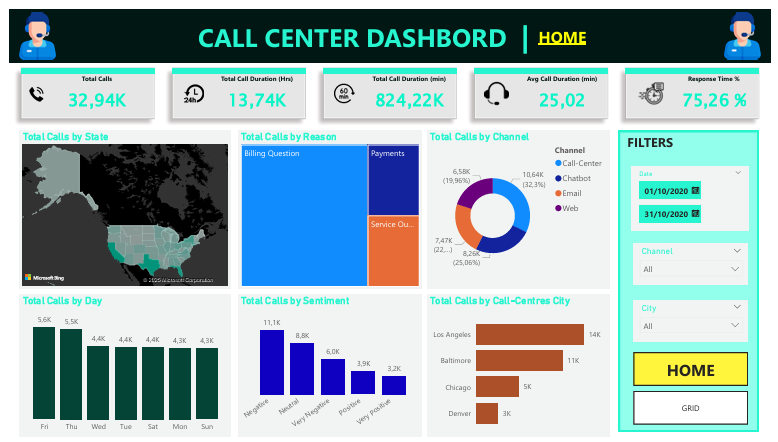

The page's visual inventory and layout, read from the dashboard file:
{"tool":"powerbi","page":{"name":"HOME","canvas":[1280,720],"ordinal":0},"visuals":[{"type":"shape","box":[0,0,1280.3,90.5],"z":0},{"type":"textbox","box":[293.5,0,715.4,90.5],"z":1000},{"type":"cardVisual","fields":{"Data":["Call Center_Call Center.Total Calls","Call Center_Call Center.Total Call Duration (Hrs)","Call Center_Call Center.Total Call Duration (min)","Call Center_Call Center.Avg Call Duration (min)","Call Center_Call Center.Response Time %"]},"box":[0,78.8,1280,125],"z":2000},{"type":"filledMap","fields":{"Category":["Call Center_Call Center.State"]},"box":[17.5,203.8,356.2,267.5],"z":3000},{"type":"donutChart","fields":{"Y":["Call Center_Call Center.Total Calls"],"Category":["Call Center_Call Center.Channel"]},"box":[702.5,203.8,307.5,267.5],"z":4000},{"type":"treemap","fields":{"Values":["Call Center_Call Center.Total Calls"],"Group":["Call Center_Call Center.Reason"]},"box":[385,203.8,308.8,267.5],"z":5000},{"type":"columnChart","fields":{"Y":["Call Center_Call Center.Total Calls"],"Category":["date.Day"]},"box":[17.5,480,356.2,240],"z":6000},{"type":"columnChart","fields":{"Y":["Call Center_Call Center.Total Calls"],"Category":["Call Center_Call Center.Sentiment"]},"box":[385,480,308.8,240],"z":7000},{"type":"clusteredBarChart","fields":{"Y":["Call Center_Call Center.Total Calls"],"Category":["Call Center_Call Center.Call-Centres City"]},"box":[702.5,480,307.5,240],"z":8000},{"type":"shape","box":[1023.5,204.2,236,506.3],"z":9000},{"type":"slicer","fields":{"Values":["date.Date"]},"box":[1046.2,265,196.2,107.5],"z":10000},{"type":"slicer","fields":{"Values":["Call Center_Call Center.Channel"]},"box":[1050,393.8,192.5,70],"z":11000},{"type":"slicer","fields":{"Values":["Call Center_Call Center.City"]},"box":[1050,488.8,192.5,70],"z":12000},{"type":"textbox","box":[1033.8,203.8,112.5,41.2],"z":13000},{"type":"pageNavigator","box":[1050.4,577.2,192,121.1],"z":14000},{"type":"image","box":[1184.9,0,95.4,89.3],"z":15000},{"type":"image","box":[0,1.2,95.4,89.3],"z":16000}]}

Visuals, with their boxes in screenshot pixels (x1, y1, x2, y2), scaled from the page's 1280x720 canvas onto the 778x442 screenshot:
shape: 0/0/777/56
textbox: 178/0/613/56
cardVisual - Call Center_Call Center.Total Calls x Call Center_Call Center.Total Call Duration (Hrs): 0/48/777/125
filledMap - Call Center_Call Center.State: 11/125/227/289
donutChart - Call Center_Call Center.Total Calls x Call Center_Call Center.Channel: 427/125/614/289
treemap - Call Center_Call Center.Total Calls x Call Center_Call Center.Reason: 234/125/422/289
columnChart - Call Center_Call Center.Total Calls x date.Day: 11/295/227/441
columnChart - Call Center_Call Center.Total Calls x Call Center_Call Center.Sentiment: 234/295/422/441
clusteredBarChart - Call Center_Call Center.Total Calls x Call Center_Call Center.Call-Centres City: 427/295/614/441
shape: 622/125/766/436
slicer - date.Date: 636/163/755/229
slicer - Call Center_Call Center.Channel: 638/242/755/285
slicer - Call Center_Call Center.City: 638/300/755/343
textbox: 628/125/697/150
pageNavigator: 638/354/755/429
image: 720/0/777/55
image: 0/1/58/56
